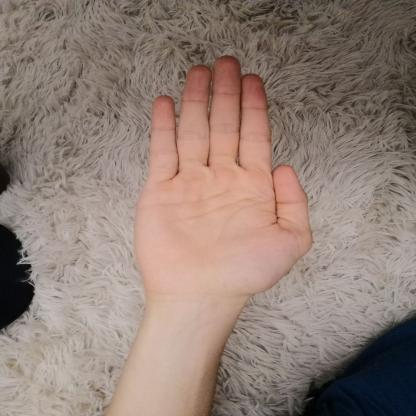SEEN: (119, 46, 322, 312)
